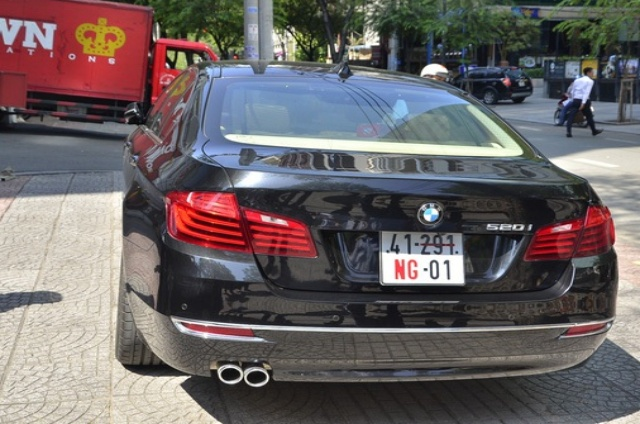plate: (377, 227, 465, 289)
